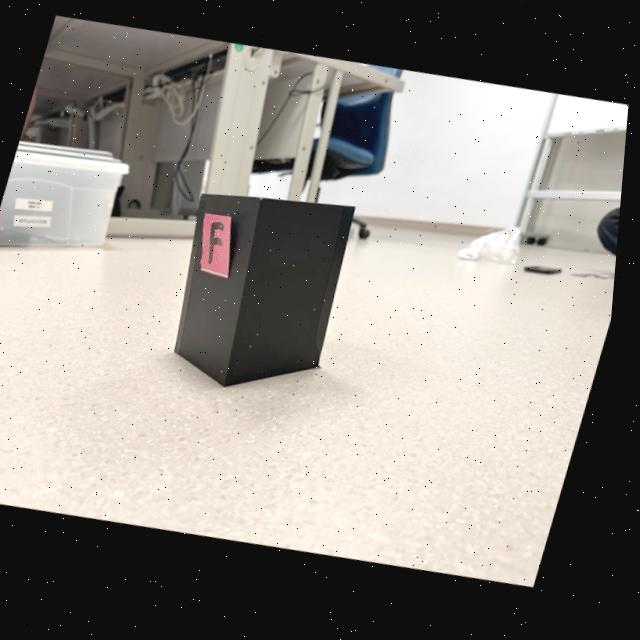F: (213, 225, 228, 268)
